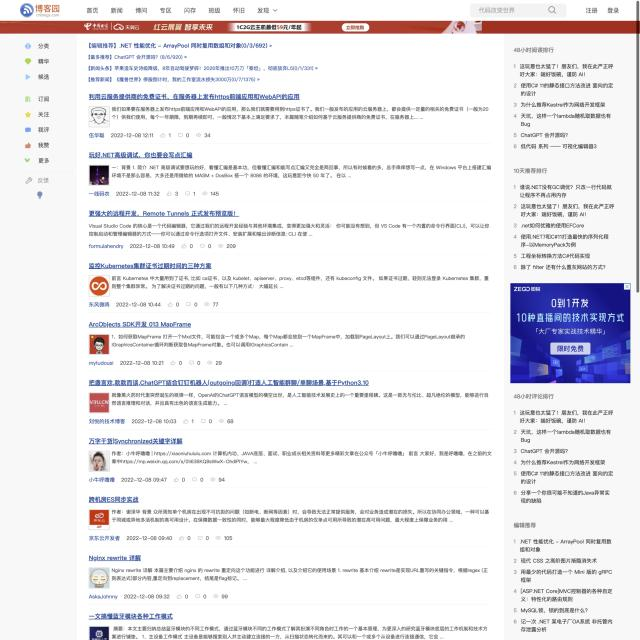CheckedTextView: (470, 3, 567, 18)
ImageView: (510, 282, 631, 383)
ProgressBar: (0, 19, 636, 32)
QR code: (84, 91, 501, 610)
date picker: (18, 0, 65, 20)
decoration: (22, 39, 58, 202), (83, 4, 284, 16)
footer: (478, 8, 516, 15)
